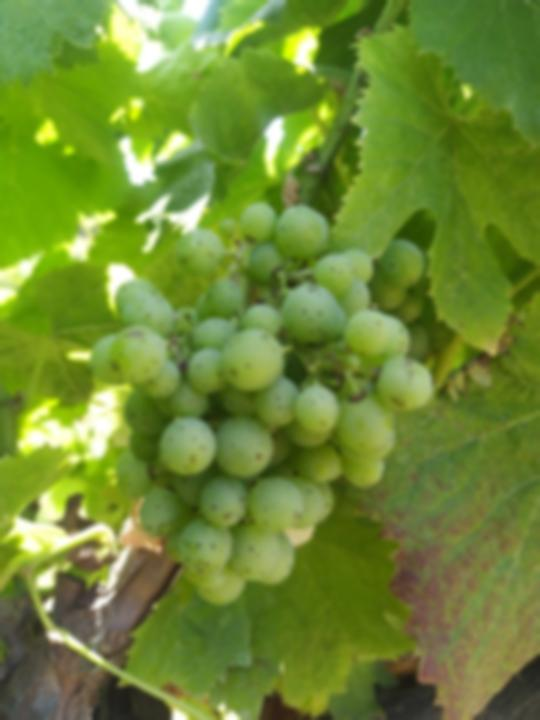grape: (83, 201, 435, 606)
